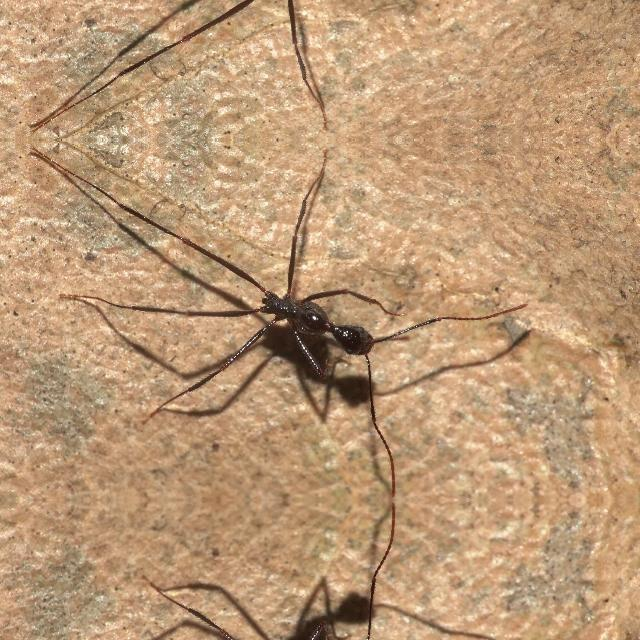Apheanogaster: (185, 253, 413, 375), (185, 0, 413, 26)
